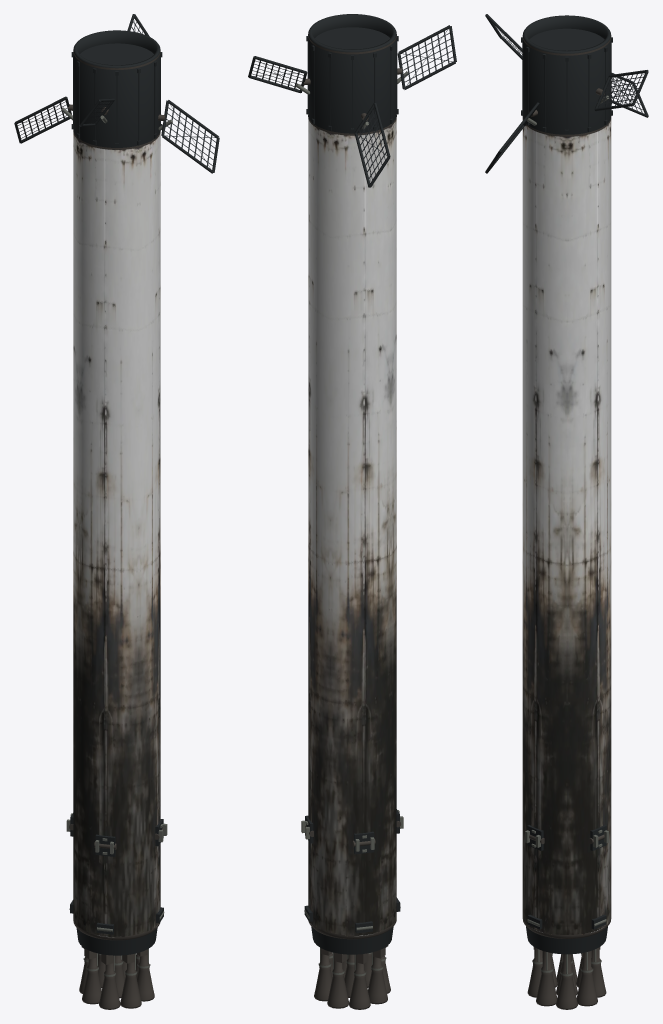
The model's file is booster_r4.glb.
3 renders of one model, left to right at view 1: azimuth 30°, elevation 25°; view 2: azimuth 150°, elevation 25°; view 3: azimuth 270°, elevation 25°, orthographic.
Visible parts, largest first — view 1: booster_shell_sooted, booster_interstage, booster_nine_engine_bells, booster_engine_mount, grid_fin_315, grid_frame_315, booster_engine_plumbing, hinge_bracket_225, grid_frame_135; view 2: booster_shell_sooted, booster_interstage, booster_nine_engine_bells, booster_engine_mount, grid_fin_225, grid_frame_225, grid_frame_135, booster_engine_plumbing, hinge_bracket_135, grid_fin_135, grid_frame_045; view 3: booster_shell_sooted, booster_interstage, booster_nine_engine_bells, booster_engine_mount, grid_frame_045, hinge_bracket_045, hinge_bracket_315, grid_fin_045, grid_frame_315, booster_engine_plumbing.
Part boxes in pixels (<box>): booster_shell_sooted: <box>73,132,160,937</box>; booster_interstage: <box>71,30,162,149</box>; booster_nine_engine_bells: <box>79,949,154,1009</box>; booster_engine_mount: <box>73,919,160,955</box>; grid_fin_315: <box>165,104,216,168</box>; grid_frame_315: <box>158,100,219,173</box>; booster_engine_plumbing: <box>81,946,150,976</box>; hinge_bracket_225: <box>94,834,116,934</box>; grid_frame_135: <box>14,96,72,143</box>; booster_shell_sooted: <box>308,119,396,936</box>; booster_interstage: <box>306,14,398,135</box>; booster_nine_engine_bells: <box>314,948,390,1009</box>; booster_engine_mount: <box>308,919,396,954</box>; grid_fin_225: <box>401,29,453,85</box>; grid_frame_225: <box>397,25,456,89</box>; grid_frame_135: <box>354,103,390,187</box>; booster_engine_plumbing: <box>318,945,388,976</box>; hinge_bracket_135: <box>352,831,375,933</box>; grid_fin_135: <box>357,110,386,181</box>; grid_frame_045: <box>248,56,310,94</box>; booster_shell_sooted: <box>522,119,611,934</box>; booster_interstage: <box>521,15,612,136</box>; booster_nine_engine_bells: <box>527,947,606,1009</box>; booster_engine_mount: <box>522,917,611,954</box>; grid_frame_045: <box>594,70,648,111</box>; hinge_bracket_045: <box>589,825,608,929</box>; hinge_bracket_315: <box>525,825,544,929</box>; grid_fin_045: <box>599,73,644,107</box>; grid_frame_315: <box>485,102,539,173</box>; booster_engine_plumbing: <box>532,947,601,976</box>.
Size of the model in its own units: 7.03 by 45.5 by 7.03.
5 materials, 2 textured.
